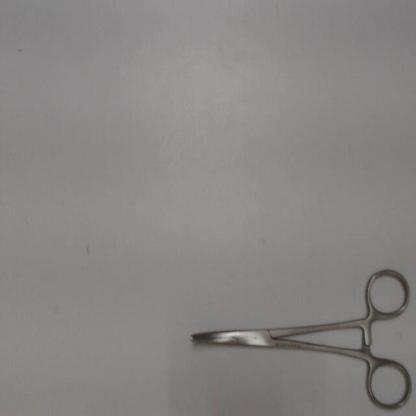Crile Artery Forceps: (182, 259, 415, 416)
